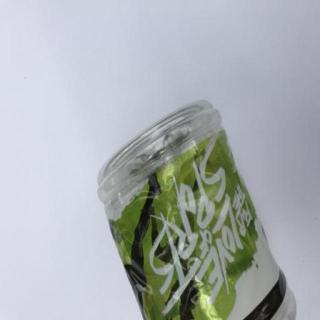Anorganik: (95, 93, 293, 320)
